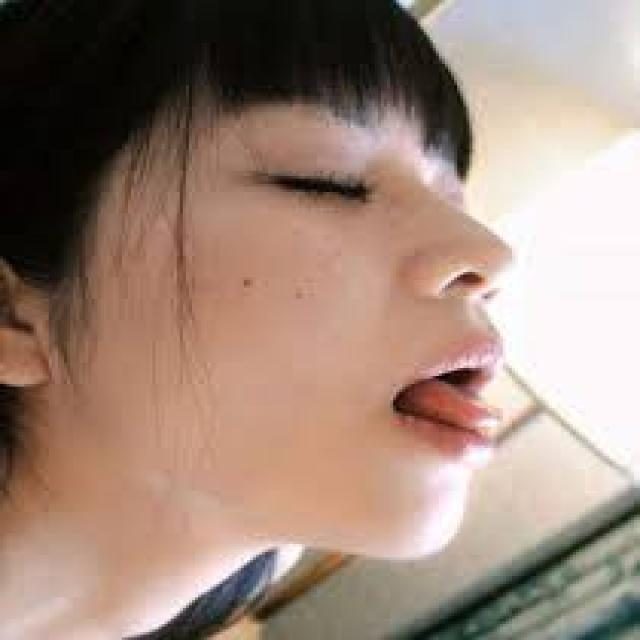tongue: (398, 382, 512, 440)
